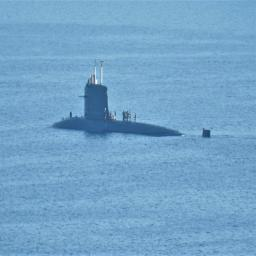submarine: (47, 85, 211, 139)
